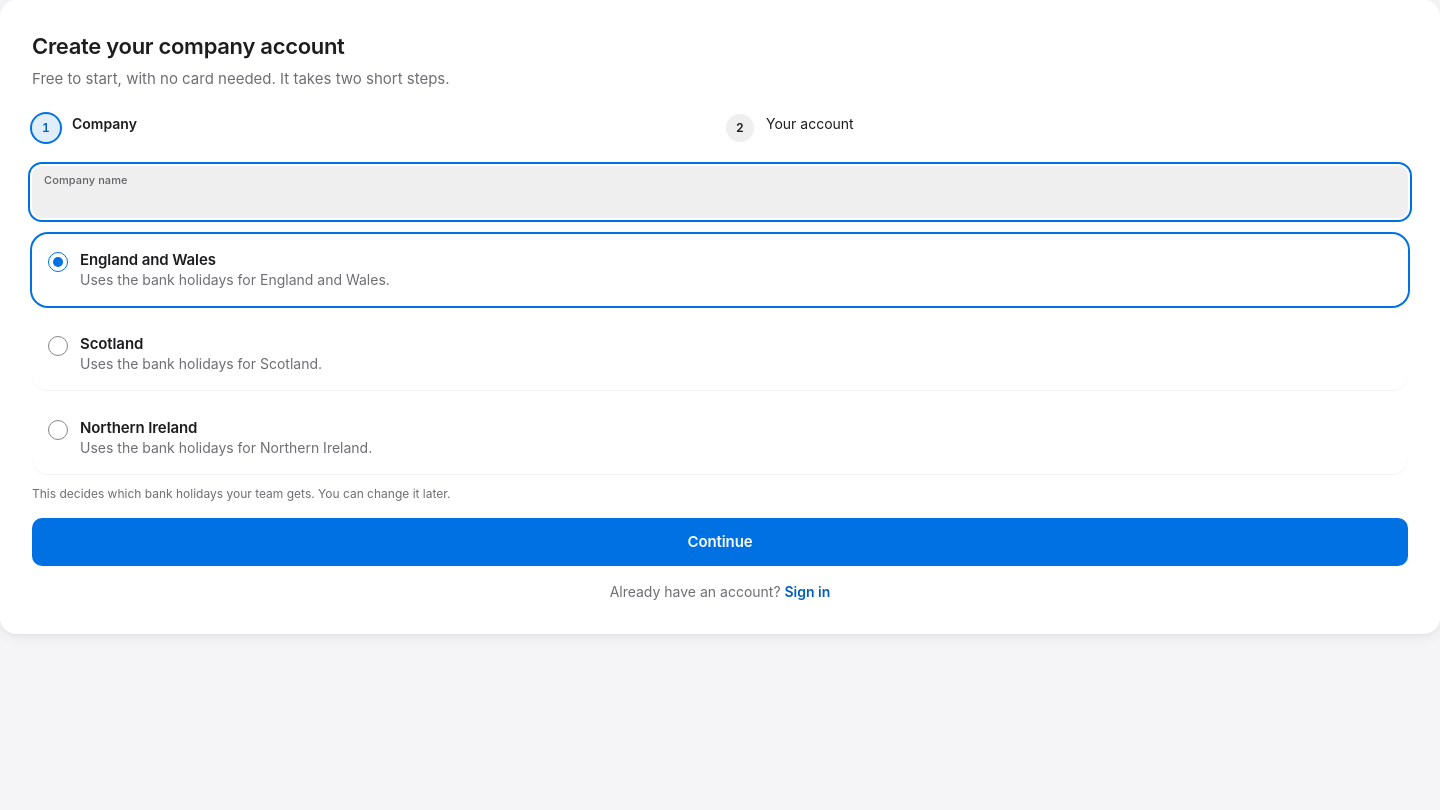
Test: SetupWizard › sends the company and the account together, then waits for the e-mailed link
Type "Harbourside Care Ltd" into the field labelled "Company name" at [694, 192], box x1=44 y1=166 x2=1344 y2=218
Click the button "Continue" at [720, 542], box x1=32 y1=518 x2=1408 y2=566
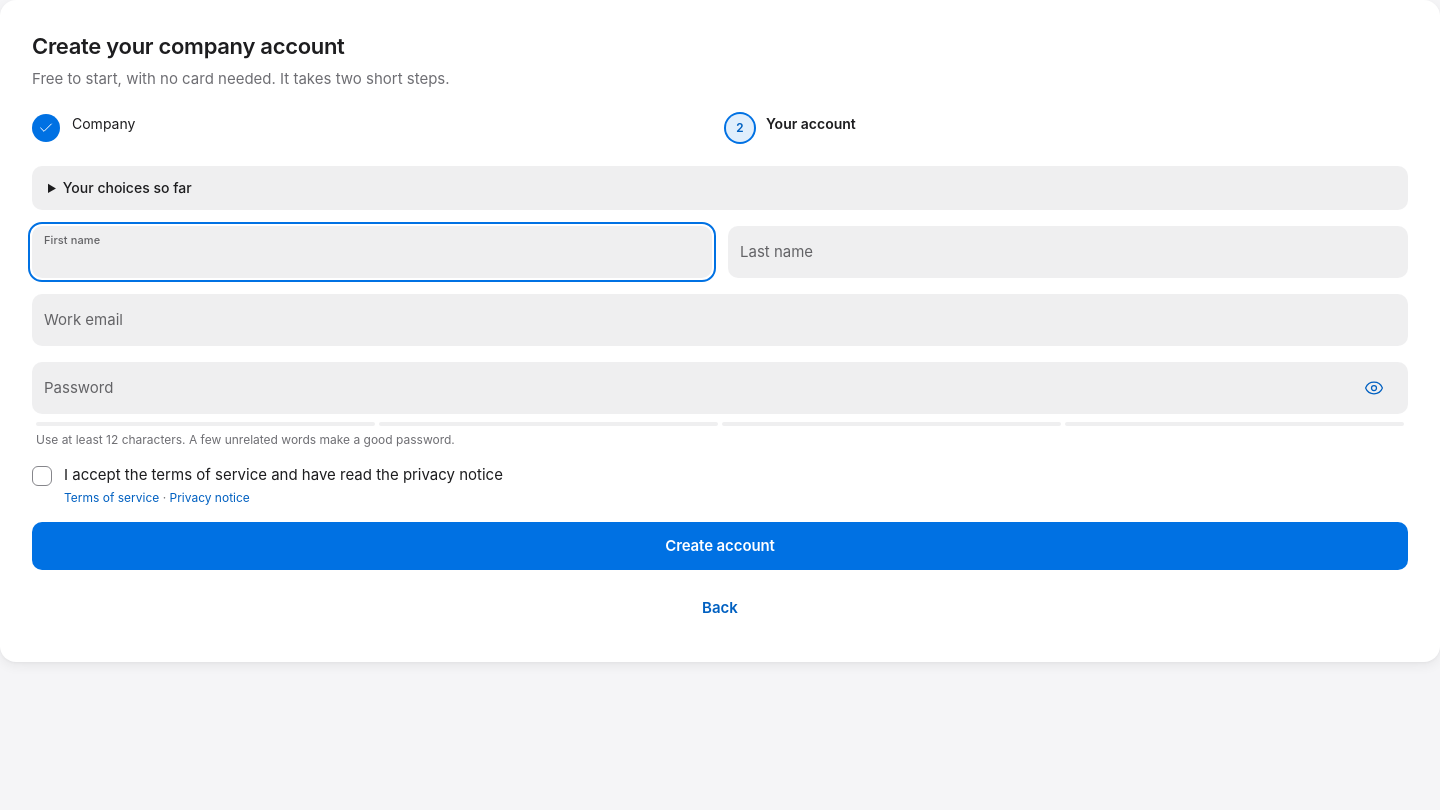
Type "Amira" into the field labelled "First name" at [346, 252], box x1=44 y1=226 x2=648 y2=278
Type "Hassan" into the field labelled "Last name" at [1042, 252], box x1=740 y1=226 x2=1344 y2=278
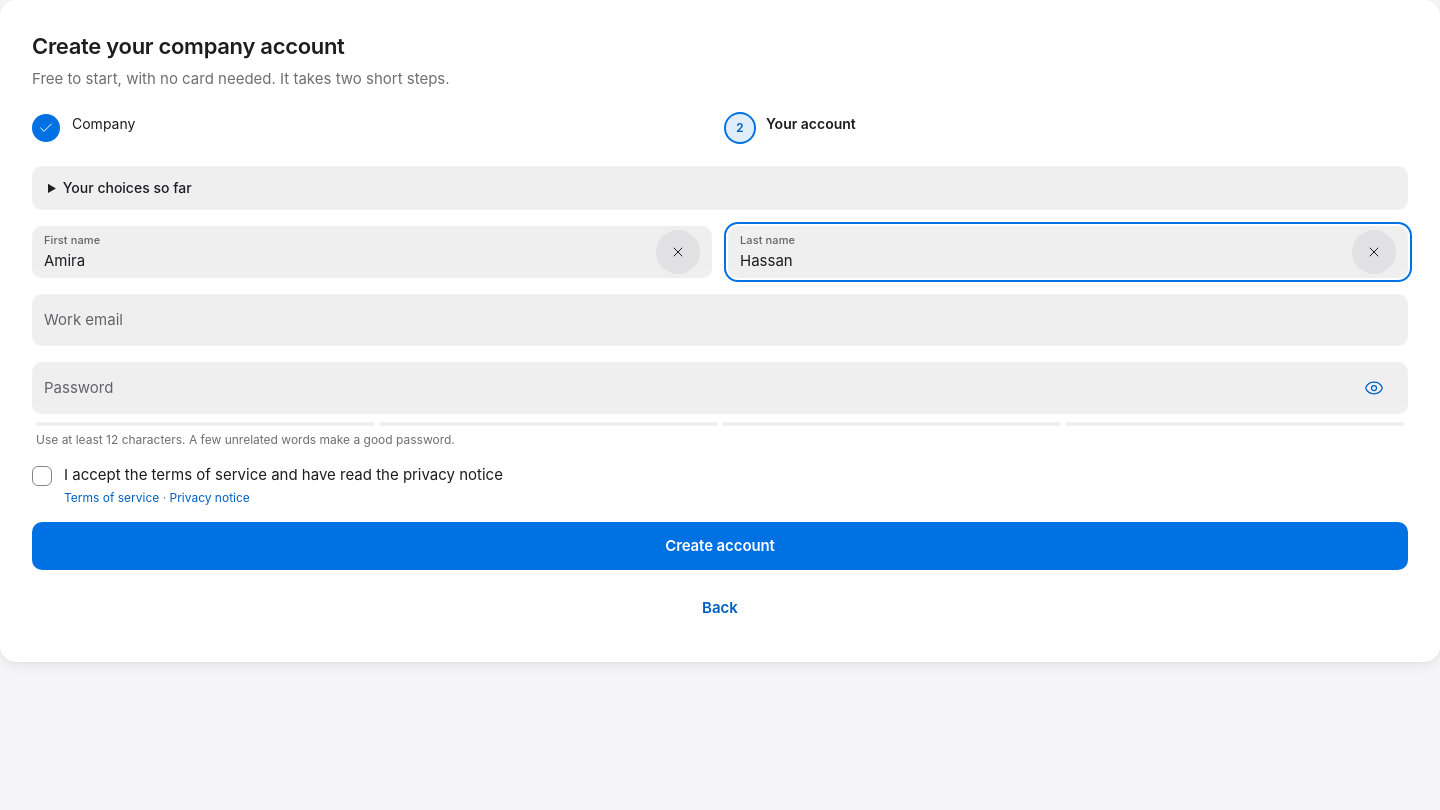
Type "amira@example.com" into the field labelled "Work email" at [694, 320], box x1=44 y1=294 x2=1344 y2=346
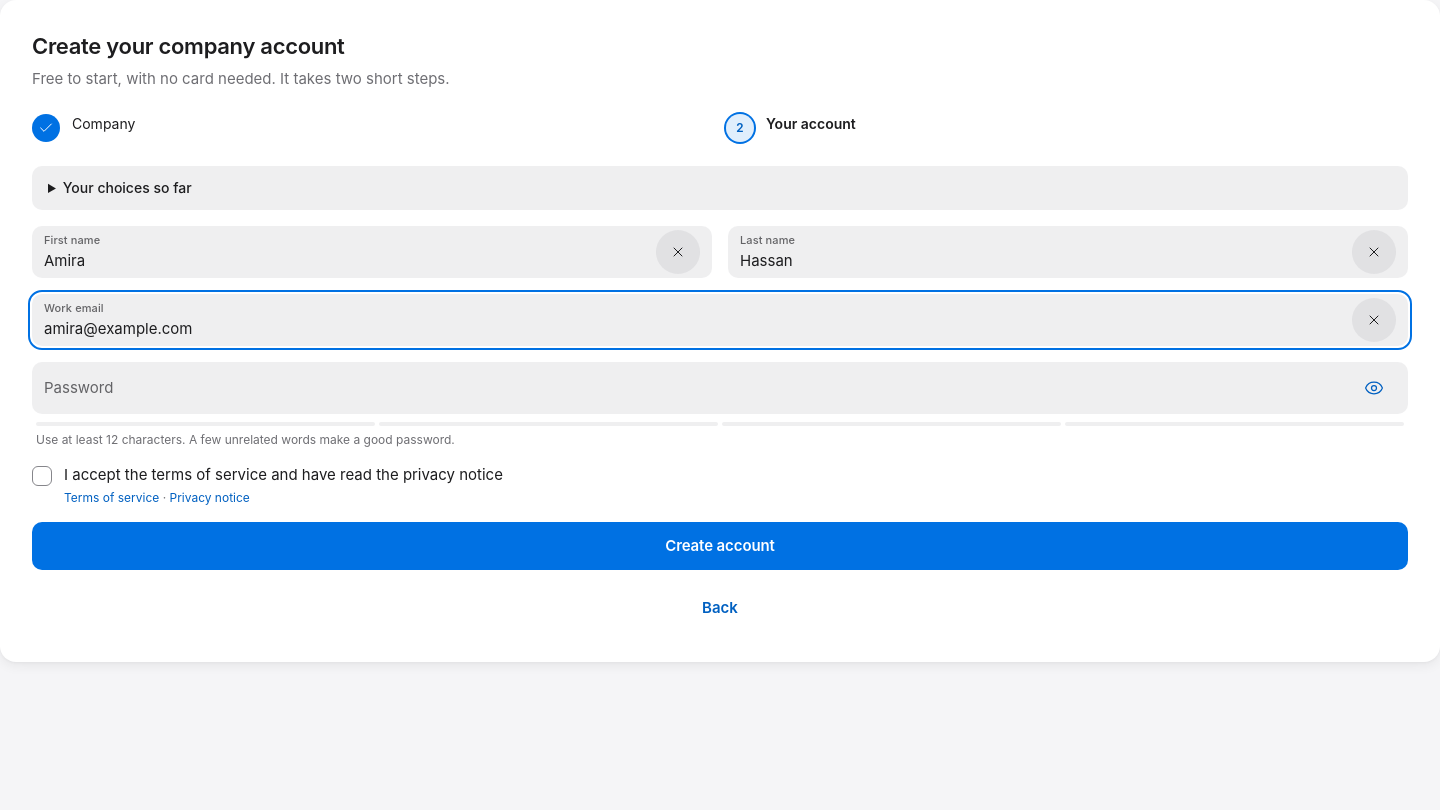
Type "a long enough password" into the password field labelled "Password" at [694, 388], box x1=44 y1=362 x2=1344 y2=414
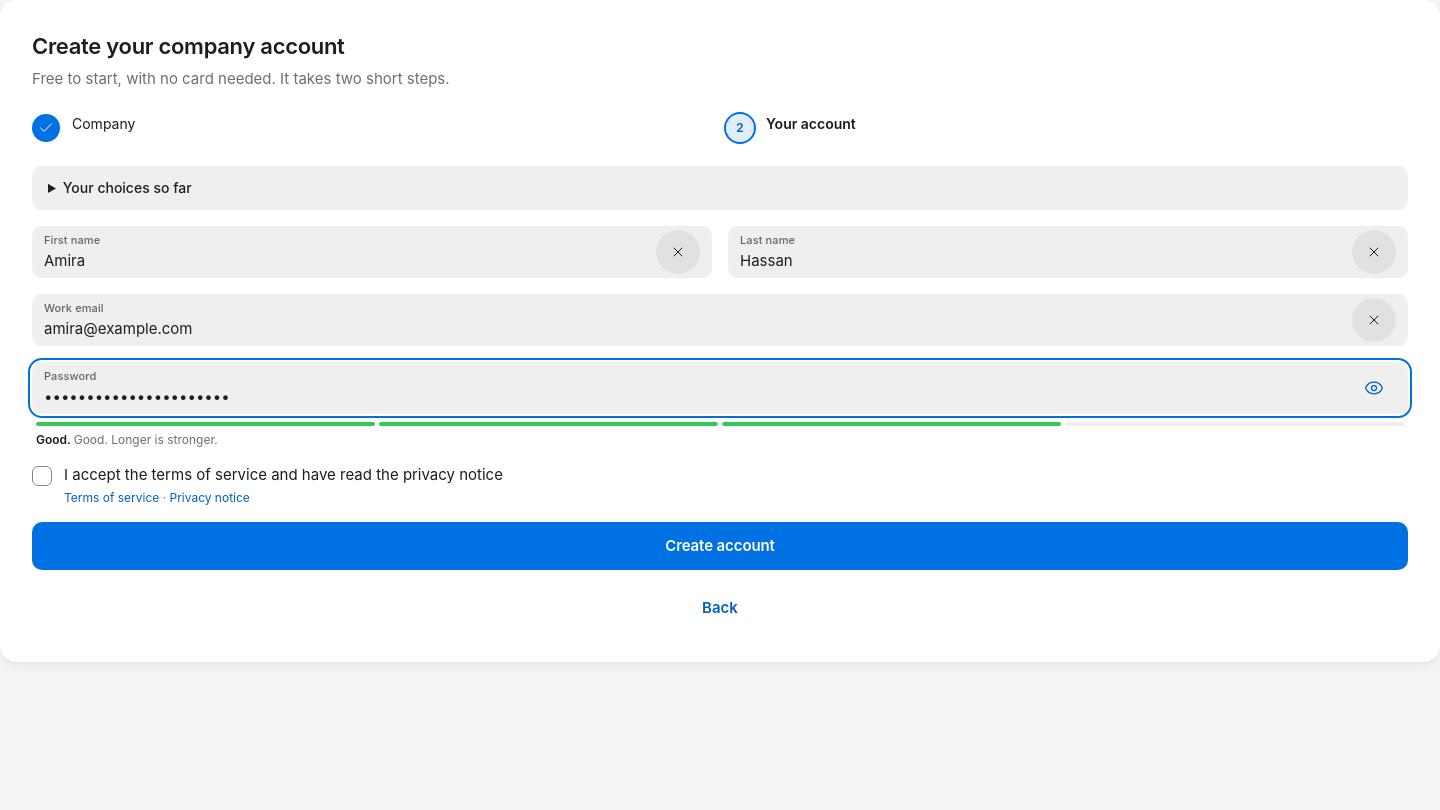
Click the checkbox at [42, 476], box x1=32 y1=466 x2=52 y2=486
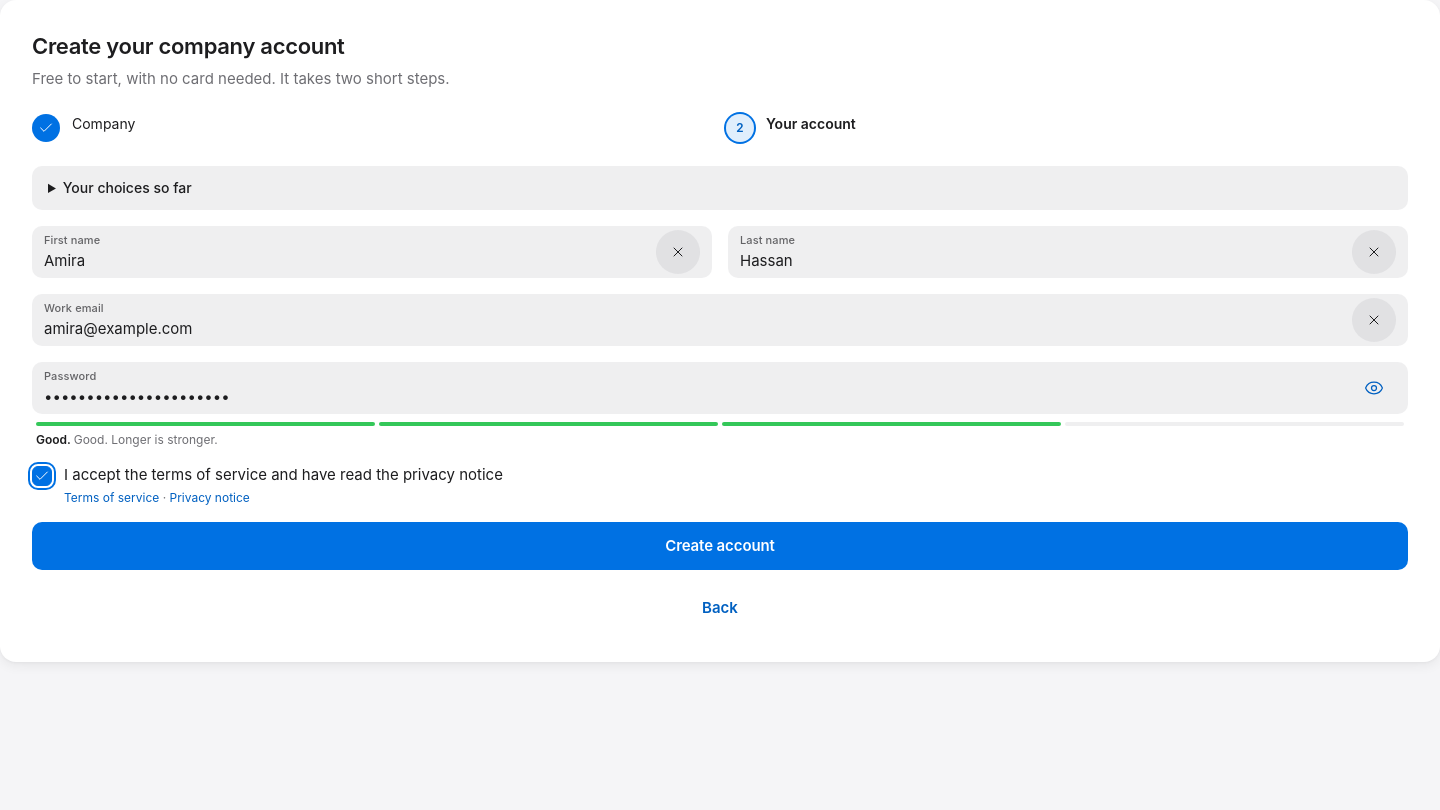
Click the button "Create account" at [720, 546], box x1=32 y1=522 x2=1408 y2=570
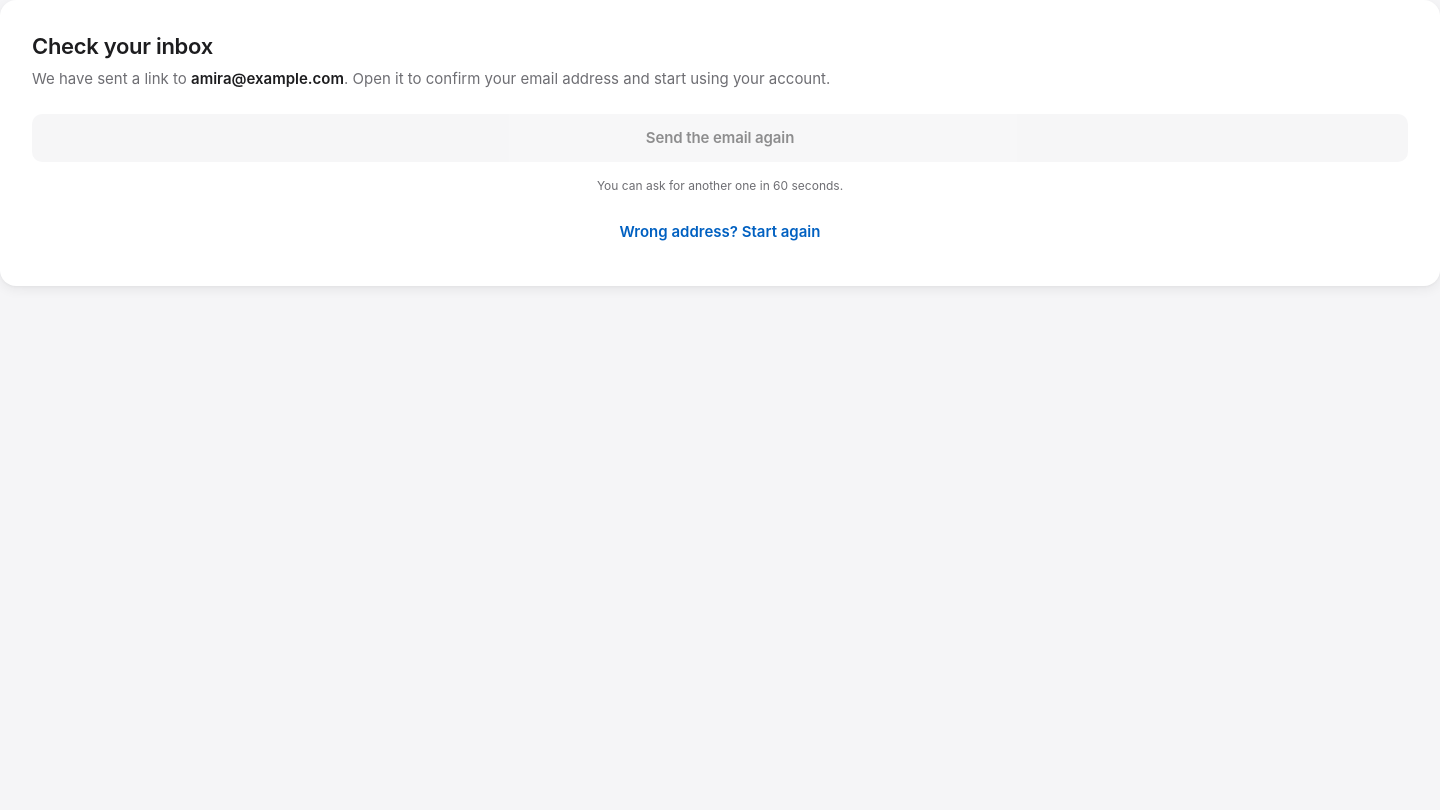
Expected: the heading "Check your inbox" is shown, x1=32 y1=33 x2=213 y2=59
Expected: the text "amira@example.com" is shown, x1=191 y1=69 x2=344 y2=88
Expected: the text "You can ask for another one in 60 seconds." is shown, x1=597 y1=178 x2=843 y2=193
